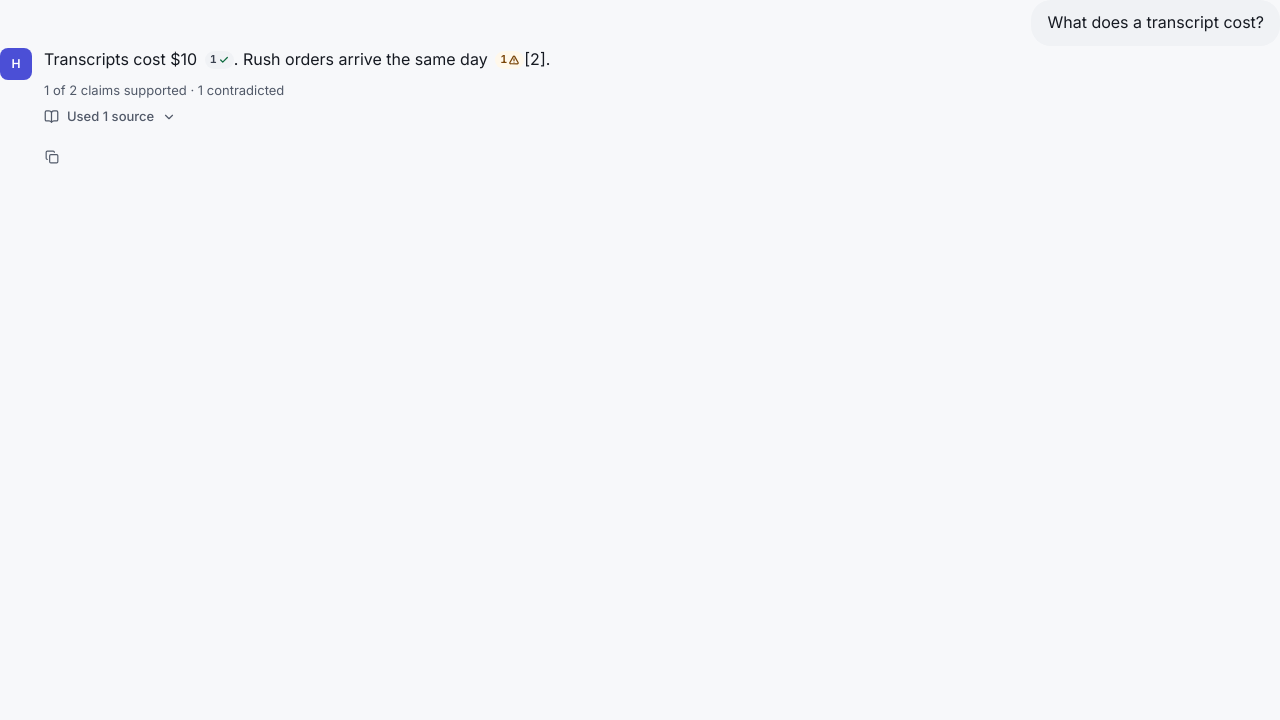
Test: source viewer › opens as a full-screen sheet on phones: focus on its title, the cited passage in view, the same close, keyboard scrolling
What coordinates should you click on to do the following:
click the button "Used 1 source"
I would click on:
 (110, 117)
Its box is [36,101,184,133].
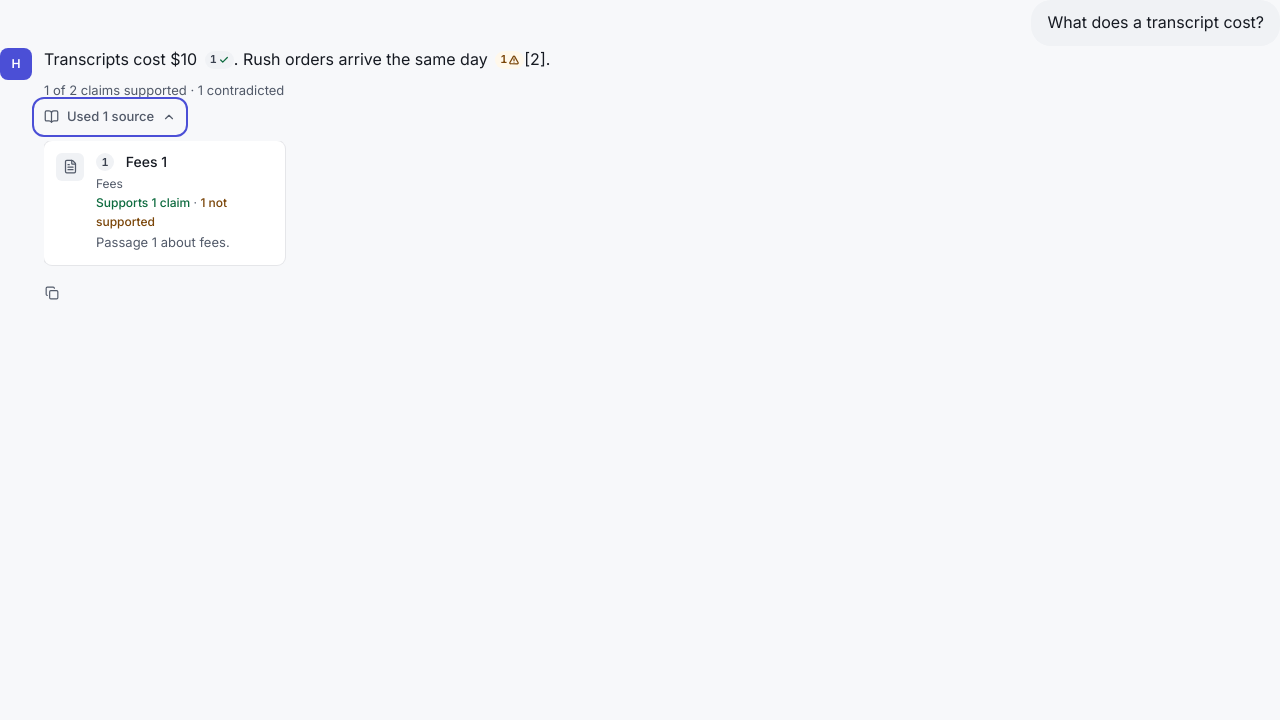
What coordinates should you click on to do the following:
click the button named "Show source 1: Fees 1"
I would click on:
 (164, 203)
Its box is [44,141,285,265].
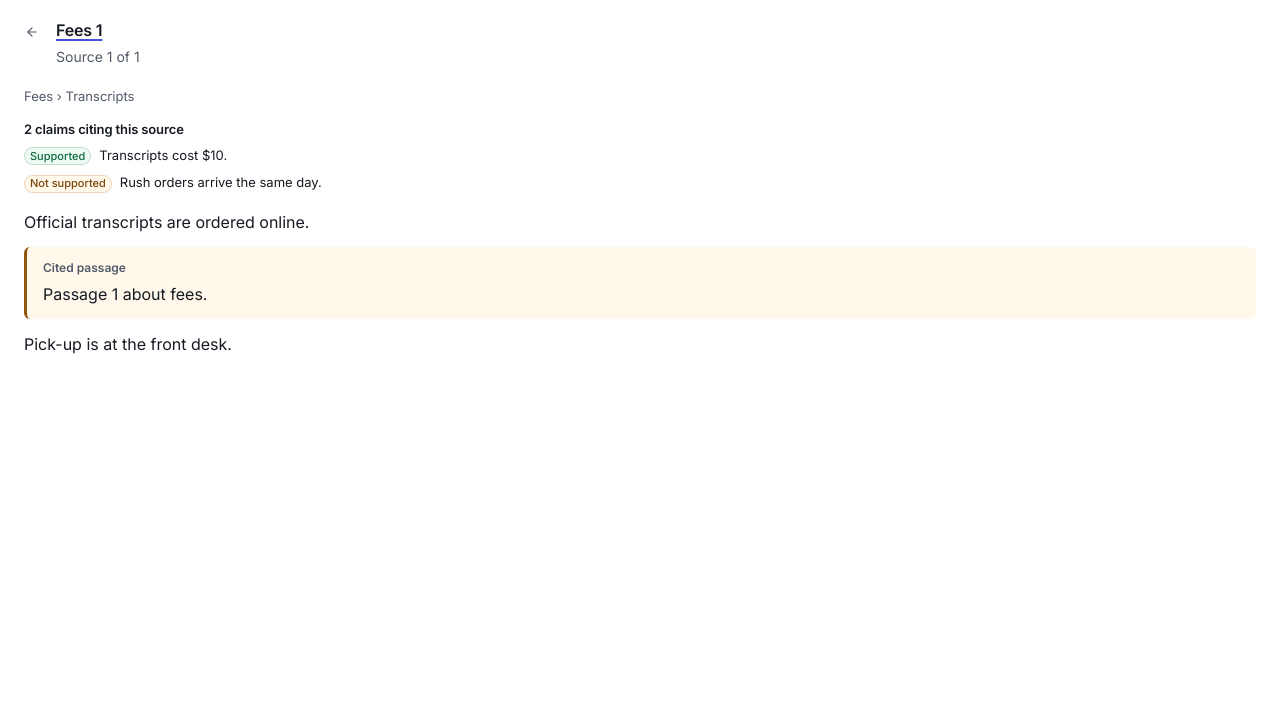
What coordinates should you click on to do the following:
click the button
I would click on:
 (32, 32)
Its box is [16,16,48,48].
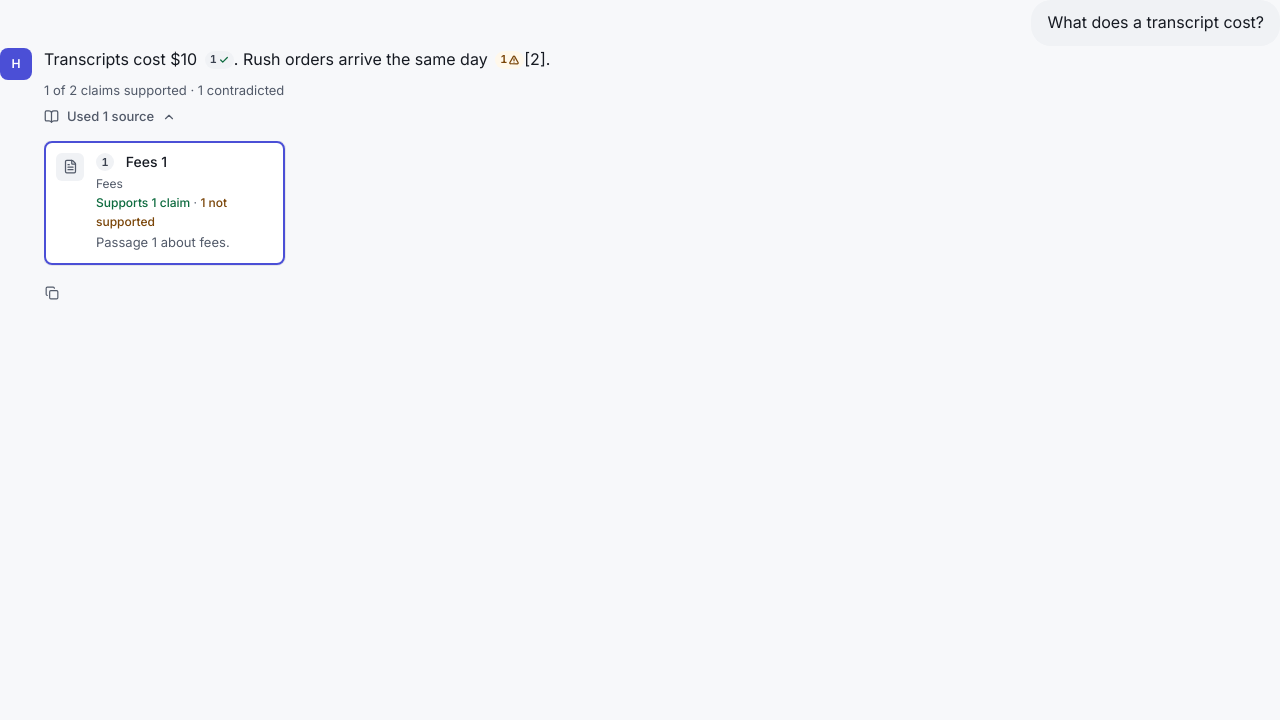
Expected: the dialog is gone
